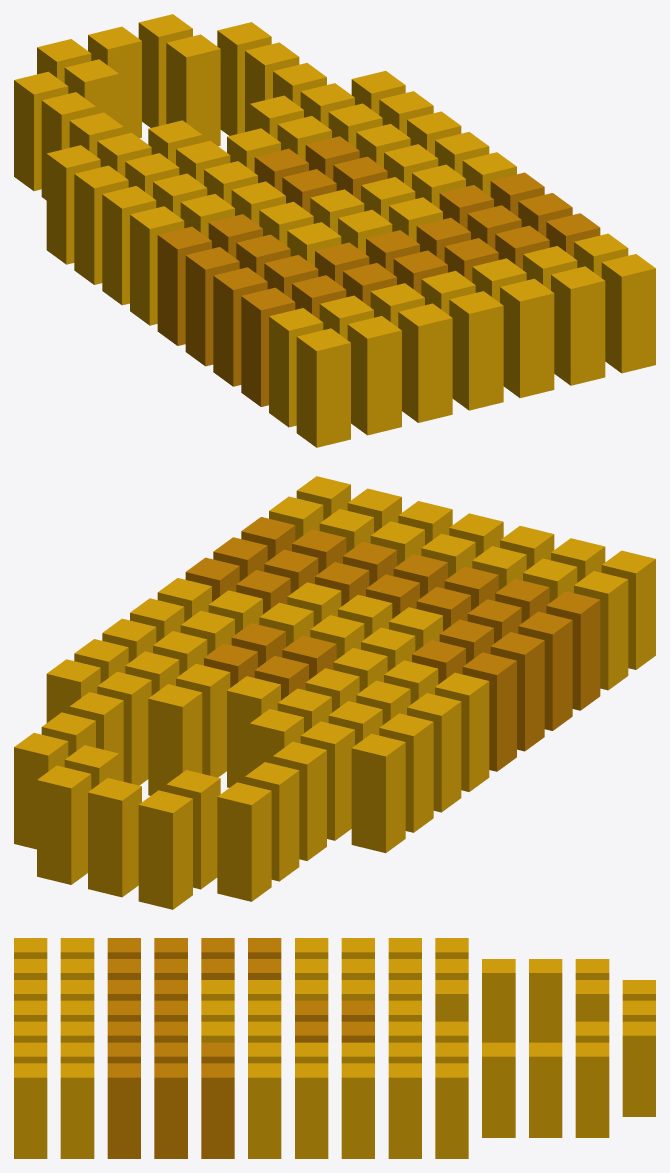
The model's file is PaperBagMesh.fbx.
The picture shows the model from 3 angles, top to bottom: view 1: azimuth 30°, elevation 25°; view 2: azimuth 150°, elevation 25°; view 3: azimuth 270°, elevation 25°; orthographic projection. The views are drawn at different scales.
Parts seen in each view (by area): view 1: PaperBagMesh; view 2: PaperBagMesh; view 3: PaperBagMesh.
Boxes of the visible parts, box(x1,y1,x2,y2) form: PaperBagMesh: box(14, 14, 655, 447); PaperBagMesh: box(14, 476, 655, 909); PaperBagMesh: box(14, 938, 655, 1158).
Bounding box in the file's own units: 31.04 × 8.45 × 60.41.
